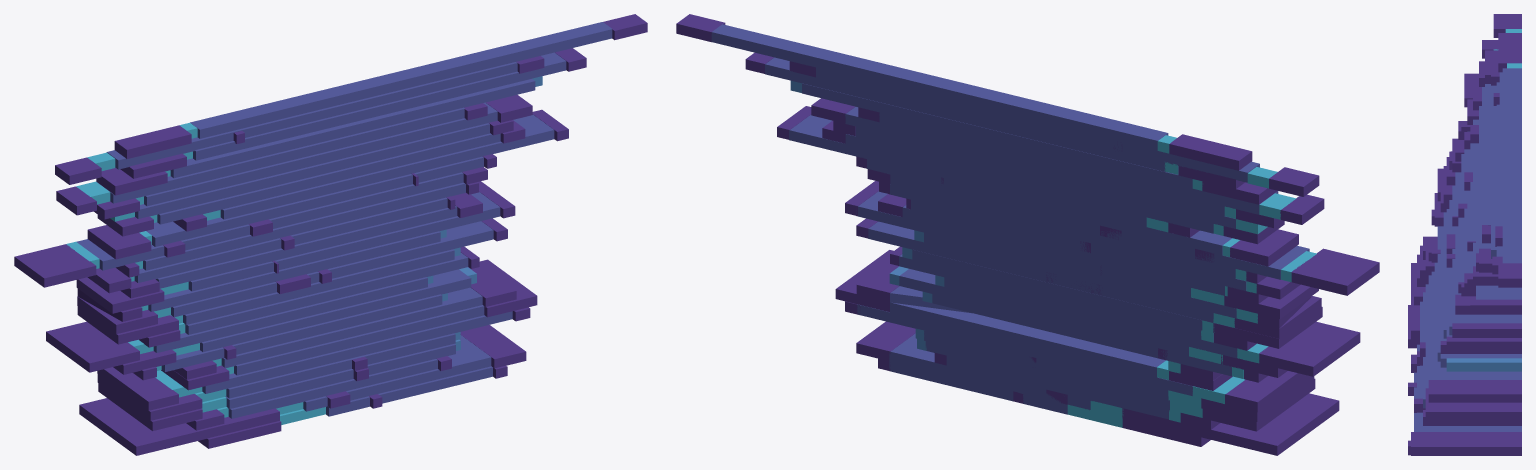
File: data_sculpture.glb
3 views of the same model, side by side, from view 1: azimuth 30°, elevation 25°; view 2: azimuth 150°, elevation 25°; view 3: azimuth 270°, elevation 25° (orthographic). The views are drawn at different scales.
Bounding box in the file's own units: 4.69 × 1.98 × 0.77.
